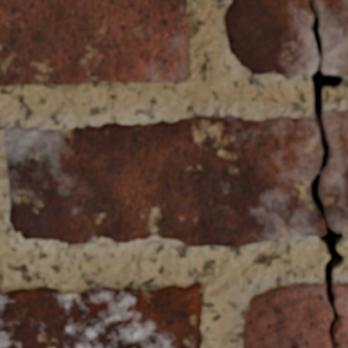brick: (0, 0, 189, 85), (0, 284, 202, 347)
broken_brick: (5, 111, 325, 248), (223, 0, 318, 79), (243, 283, 332, 347), (322, 108, 347, 234), (314, 0, 347, 76), (334, 284, 347, 347)
crack: (308, 0, 345, 347)
